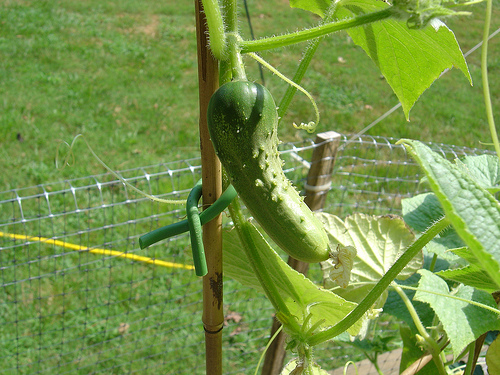cucumber: (207, 82, 332, 262)
